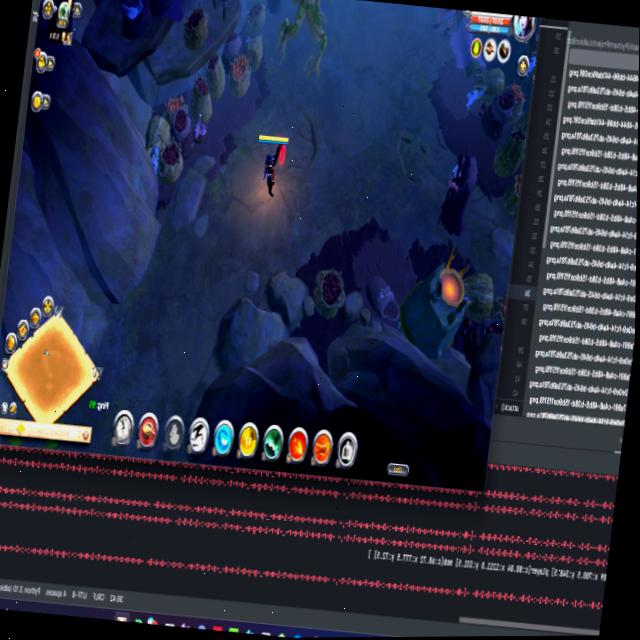ore: (266, 0, 339, 88), (429, 139, 484, 241), (428, 7, 464, 45), (259, 0, 289, 17)
red: (250, 130, 292, 201)
